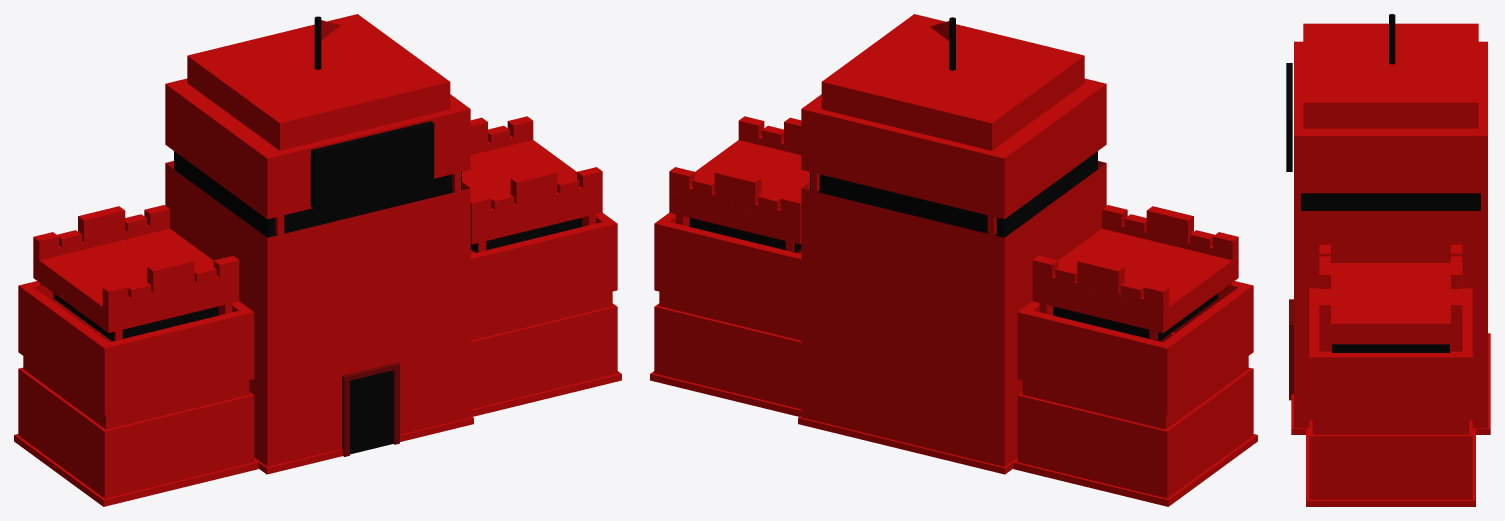
File: Level_2_Ana_Kaleler.fbx
The picture shows the model from 3 angles, left to right: view 1: azimuth 30°, elevation 25°; view 2: azimuth 150°, elevation 25°; view 3: azimuth 270°, elevation 25°; orthographic projection. The views are drawn at different scales.
Parts seen in each view (by area): view 1: Plane, Cube.018, Cube.002; view 2: Plane, Cube.018, Cube.002; view 3: Plane, Cube.002.
Boxes of the visible parts, left/top/right/bottom form: Plane: left=165, top=14, right=473, bottom=474; Cube.018: left=14, top=205, right=258, bottom=506; Cube.002: left=462, top=116, right=621, bottom=416; Plane: left=798, top=14, right=1106, bottom=474; Cube.018: left=1013, top=205, right=1257, bottom=506; Cube.002: left=650, top=116, right=809, bottom=416; Plane: left=1286, top=14, right=1490, bottom=434; Cube.002: left=1306, top=244, right=1475, bottom=506.
Bounding box in the file's own units: 382 × 277 × 138.
